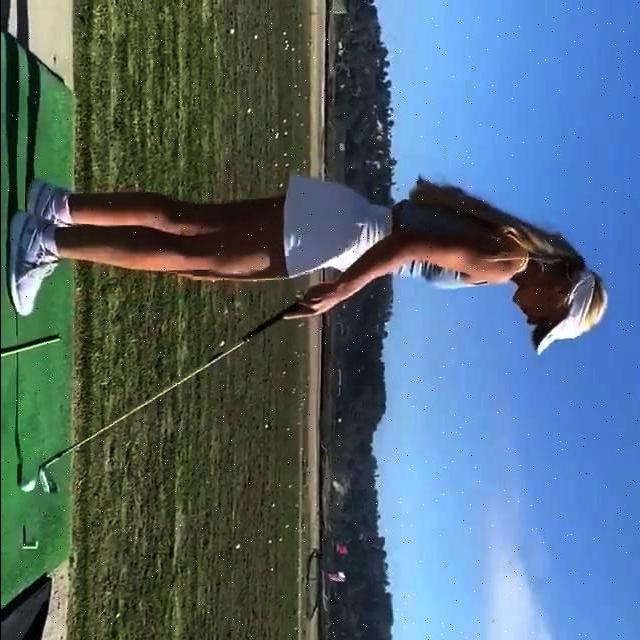golf ball: (21, 477, 35, 492)
golf club-handle: (37, 304, 302, 495)
golf club-head: (37, 467, 61, 495)
